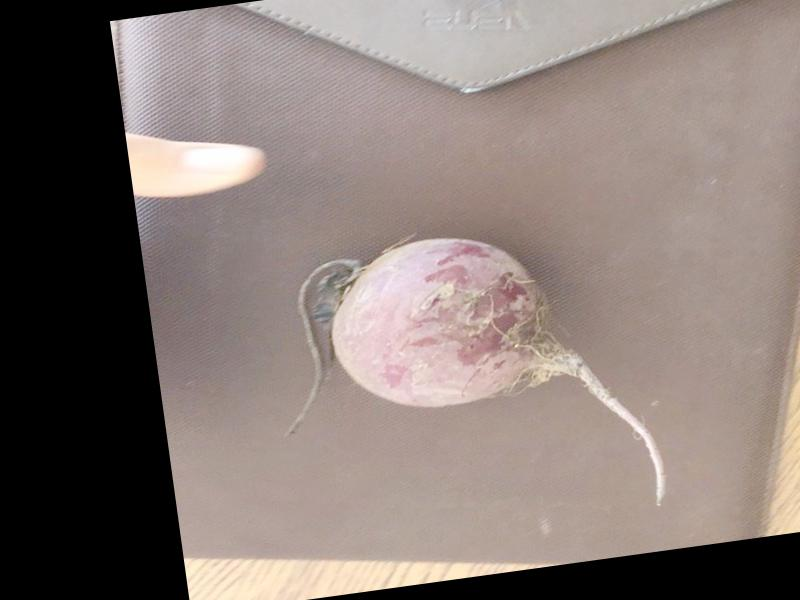Beet: (264, 212, 669, 552)
